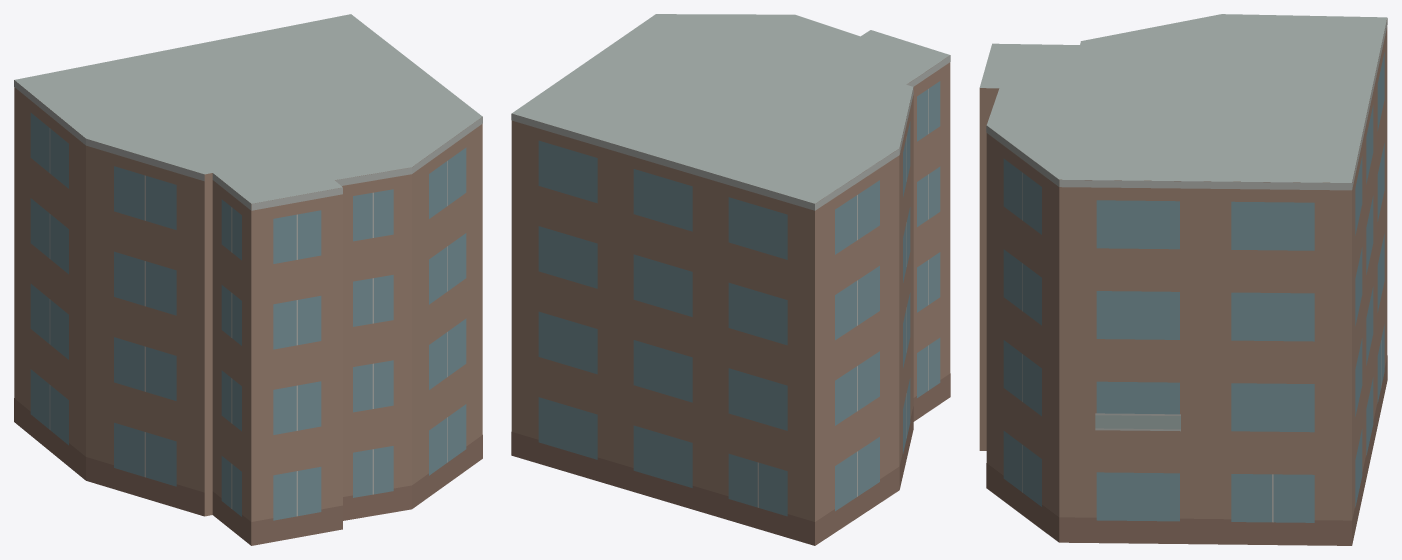
Rendered from survey-upis-32702572.glb.
3 views of the same model, side by side, from view 1: azimuth 30°, elevation 25°; view 2: azimuth 150°, elevation 25°; view 3: azimuth 270°, elevation 25° (orthographic). The views are drawn at different scales.
Parts seen in each view (by area): view 1: survey-upis-32702572.tmp; view 2: survey-upis-32702572.tmp; view 3: survey-upis-32702572.tmp.
Part boxes in pixels (left/top/right/bottom): survey-upis-32702572.tmp: left=14, top=14, right=482, bottom=545; survey-upis-32702572.tmp: left=511, top=14, right=950, bottom=545; survey-upis-32702572.tmp: left=979, top=14, right=1387, bottom=545.
Size of the model in its own units: 12 by 12 by 12.24.
